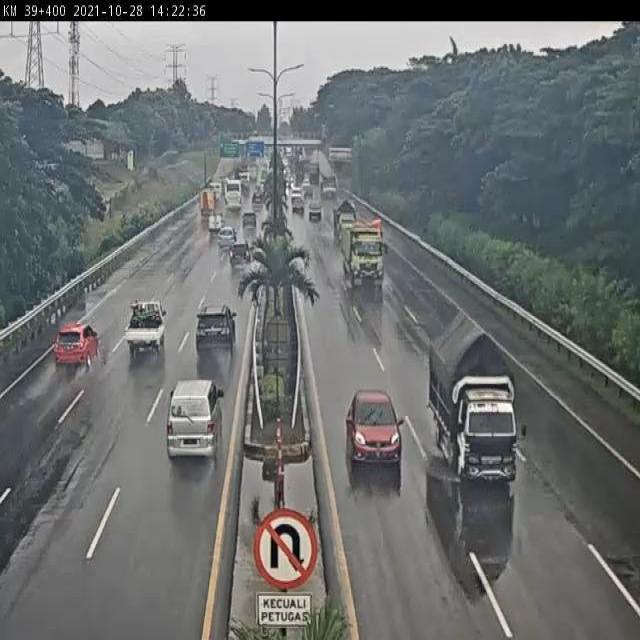car: (54, 323, 100, 369)
truck-l-: (344, 225, 389, 295)
truck-s-: (429, 310, 518, 486), (335, 200, 360, 248)
